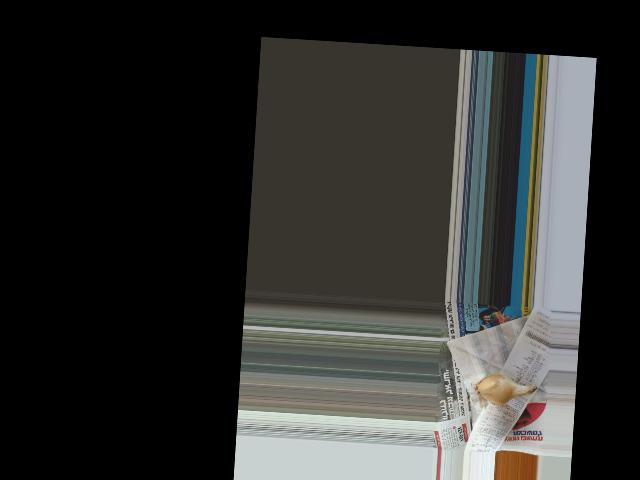onion: (479, 371, 518, 406)
